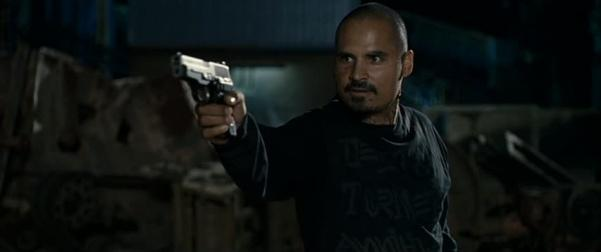Gun: (170, 51, 239, 140)
